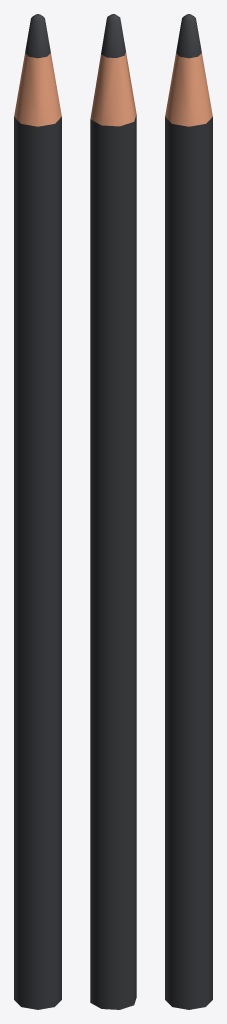
The model's file is Brush Pencil.glb.
The picture shows the model from 3 angles, left to right: view 1: azimuth 90°, elevation 25°; view 2: azimuth 150°, elevation 25°; view 3: azimuth 270°, elevation 25°; orthographic projection.
Visible parts, largest first — view 1: brush_pencil.001; view 2: brush_pencil.001; view 3: brush_pencil.001.
Boxes of the visible parts, bbox=[...] form: brush_pencil.001: bbox=[14, 14, 61, 1009]; brush_pencil.001: bbox=[90, 14, 136, 1009]; brush_pencil.001: bbox=[165, 14, 212, 1009].
Bounding box in the file's own units: 1.12 × 25.49 × 1.12.
Materials: 1 (1 with a texture image).
